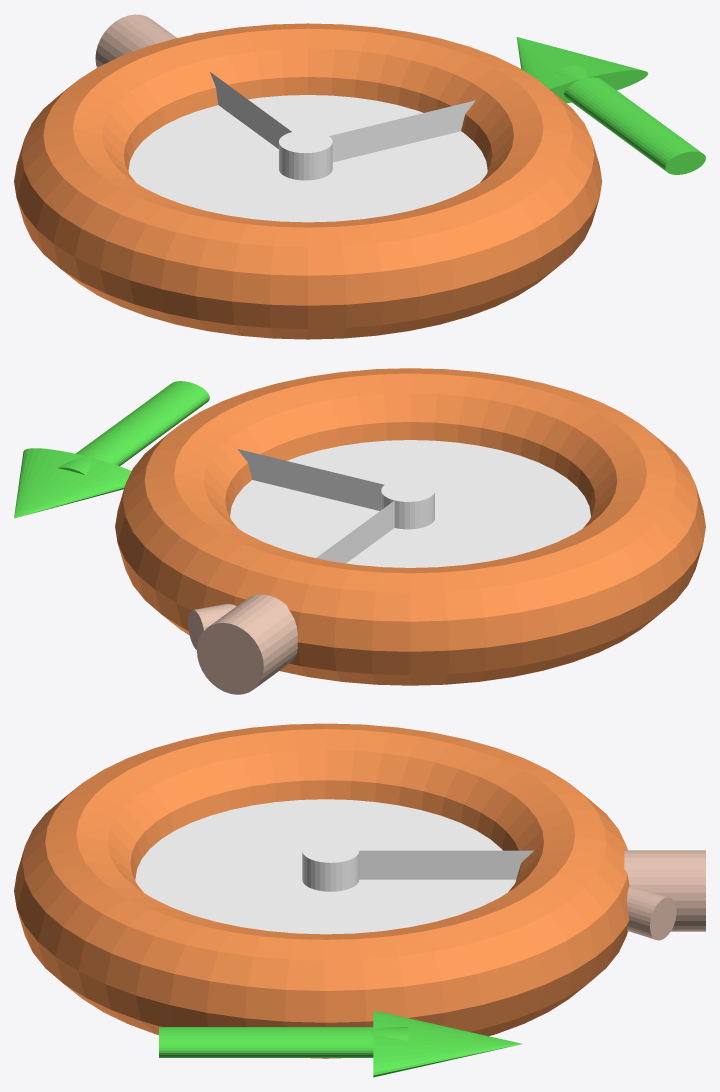
File: TimeAdd.fbx
3 renders of one model, top to bottom at view 1: azimuth 30°, elevation 25°; view 2: azimuth 150°, elevation 25°; view 3: azimuth 270°, elevation 25°, orthographic. The views are drawn at different scales.
Parts seen in each view (by area): view 1: TimeAdd; view 2: TimeAdd; view 3: TimeAdd.
Part boxes in pixels (box(x1,y1,x2,y2)): TimeAdd: box(14, 14, 705, 339); TimeAdd: box(14, 368, 705, 694); TimeAdd: box(14, 723, 705, 1077).
Bounding box in the file's own units: 3.03 × 0.5 × 2.77.
